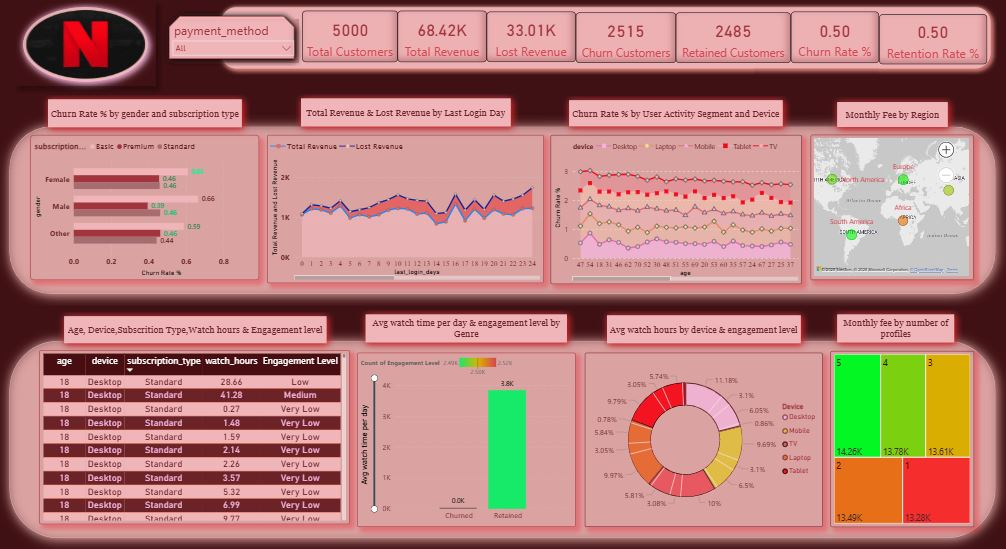

The page's visual inventory and layout, read from the dashboard file:
{"tool":"powerbi","page":{"name":"MAIN PAGE","canvas":[2200,1200],"ordinal":0},"visuals":[{"type":"shape","box":[0,719.8,2200.4,480.6],"z":0},{"type":"shape","box":[0,253.6,2200.4,415.1],"z":1000},{"type":"shape","box":[36.8,0,306.8,198.4],"z":2000},{"type":"shape","box":[472.4,4.1,1705.5,161.6],"z":3000},{"type":"shape","box":[357.9,22.5,304.7,124.8],"z":4000},{"type":"card","fields":{"Values":["netflix_customer_churn.Retention Rate %"]},"box":[1922.3,32.7,235.2,108.4],"z":5000},{"type":"slicer","fields":{"Values":["netflix_customer_churn.payment_method"]},"box":[370.1,43,284.3,96.1],"z":13000},{"type":"card","fields":{"Values":["netflix_customer_churn.Total Customers"]},"box":[662.6,24.5,208.6,112.5],"z":14000},{"type":"card","fields":{"Values":["netflix_customer_churn.Churn Customers"]},"box":[1259.7,28.6,218.8,110.4],"z":15000},{"type":"card","fields":{"Values":["netflix_customer_churn.Retained Customers"]},"box":[1478.5,28.6,251.5,110.4],"z":16000},{"type":"card","fields":{"Values":["netflix_customer_churn.Total Revenue"]},"box":[871.2,24.5,194.3,112.5],"z":17000},{"type":"card","fields":{"Values":["netflix_customer_churn.Churn Rate %"]},"box":[1730.1,26.6,192.2,112.5],"z":18000},{"type":"actionButton","box":[90,200.4,460.1,98.2],"z":19000},{"type":"card","fields":{"Values":["netflix_customer_churn.Lost Revenue"]},"box":[1065.5,26.6,194.3,110.4],"z":20000},{"type":"image","box":[36.8,8.2,306.8,182],"z":21000},{"type":"clusteredBarChart","fields":{"Category":["netflix_customer_churn.gender"],"Y":["netflix_customer_churn.Churn Rate %"],"Series":["netflix_customer_churn.subscription_type"]},"box":[71.6,296.5,499,317],"z":22000},{"type":"actionButton","box":[1811.9,668.7,292.4,98.2],"z":23000},{"type":"actionButton","box":[783.2,668.7,476.5,98.2],"z":23500},{"type":"actionButton","box":[1308.8,670.8,460.1,98.2],"z":24000},{"type":"actionButton","box":[124.8,672.8,609.4,96.1],"z":26000},{"type":"actionButton","box":[1811.9,206.6,278.1,92],"z":27000},{"type":"actionButton","box":[1227,202.5,503.1,94.1],"z":27500},{"type":"actionButton","box":[642.1,198.4,494.9,98.2],"z":28000},{"type":"stackedAreaChart","fields":{"Category":["netflix_customer_churn.User Activity Segment","netflix_customer_churn.last_login_days"],"Y":["netflix_customer_churn.Total Revenue","netflix_customer_churn.Lost Revenue"]},"box":[586.9,296.5,603.3,323.1],"z":29500},{"type":"stackedAreaChart","fields":{"Category":["netflix_customer_churn.age","netflix_customer_churn.User Activity Segment"],"Y":["netflix_customer_churn.Churn Rate %"],"Series":["netflix_customer_churn.device"]},"box":[1204.5,296.5,548.1,325.2],"z":30000},{"type":"map","fields":{"Size":["Sum(netflix_customer_churn.monthly_fee)"],"Category":["netflix_customer_churn.region"]},"box":[1773,296.5,355.8,317],"z":30500},{"type":"tableEx","fields":{"Values":["netflix_customer_churn.age","netflix_customer_churn.device","netflix_customer_churn.subscription_type","netflix_customer_churn.watch_hours","netflix_customer_churn.Engagement Level"]},"box":[90,764.8,676.9,380.4],"z":31000},{"type":"columnChart","fields":{"Category":["netflix_customer_churn.chruned or ratained","netflix_customer_churn.Engagement Level","netflix_customer_churn.favorite_genre"],"Y":["Sum(netflix_customer_churn.avg_watch_time_per_day)"]},"box":[783.2,771,476.5,380.4],"z":31500},{"type":"treemap","fields":{"Group":["netflix_customer_churn.number_of_profiles"],"Values":["Sum(netflix_customer_churn.monthly_fee)"]},"box":[1816,766.9,312.9,384.5],"z":32000},{"type":"donutChart","fields":{"Category":["netflix_customer_churn.device","netflix_customer_churn.User Activity Segment"],"Series":["netflix_customer_churn.Engagement Level"],"Y":["Avg(netflix_customer_churn.watch_hours)"]},"box":[1280.2,771,519.4,380.4],"z":32500}]}

Visuals, with their boxes in screenshot pixels (x1, y1, x2, y2), scaled from the page's 2200x1200 canvas onto the 1006x549 screenshot:
shape: region(0, 329, 1005, 548)
shape: region(0, 116, 1005, 306)
shape: region(17, 0, 157, 91)
shape: region(216, 2, 996, 76)
shape: region(164, 10, 303, 67)
card - netflix_customer_churn.Retention Rate %: region(879, 15, 987, 65)
slicer - netflix_customer_churn.payment_method: region(169, 20, 299, 64)
card - netflix_customer_churn.Total Customers: region(303, 11, 398, 63)
card - netflix_customer_churn.Churn Customers: region(576, 13, 676, 64)
card - netflix_customer_churn.Retained Customers: region(676, 13, 791, 64)
card - netflix_customer_churn.Total Revenue: region(398, 11, 487, 63)
card - netflix_customer_churn.Churn Rate %: region(791, 12, 879, 64)
actionButton: region(41, 92, 252, 137)
card - netflix_customer_churn.Lost Revenue: region(487, 12, 576, 63)
image: region(17, 4, 157, 87)
clusteredBarChart - netflix_customer_churn.gender x netflix_customer_churn.Churn Rate %: region(33, 136, 261, 281)
actionButton: region(829, 306, 962, 351)
actionButton: region(358, 306, 576, 351)
actionButton: region(598, 307, 809, 352)
actionButton: region(57, 308, 336, 352)
actionButton: region(829, 95, 956, 137)
actionButton: region(561, 93, 791, 136)
actionButton: region(294, 91, 520, 136)
stackedAreaChart - netflix_customer_churn.User Activity Segment x netflix_customer_churn.last_login_days: region(268, 136, 544, 283)
stackedAreaChart - netflix_customer_churn.age x netflix_customer_churn.User Activity Segment: region(551, 136, 801, 284)
map - Sum(netflix_customer_churn.monthly_fee) x netflix_customer_churn.region: region(811, 136, 973, 281)
tableEx - netflix_customer_churn.age x netflix_customer_churn.device: region(41, 350, 351, 524)
columnChart - netflix_customer_churn.chruned or ratained x netflix_customer_churn.Engagement Level: region(358, 353, 576, 527)
treemap - netflix_customer_churn.number_of_profiles x Sum(netflix_customer_churn.monthly_fee): region(830, 351, 973, 527)
donutChart - netflix_customer_churn.device x netflix_customer_churn.User Activity Segment: region(585, 353, 823, 527)
